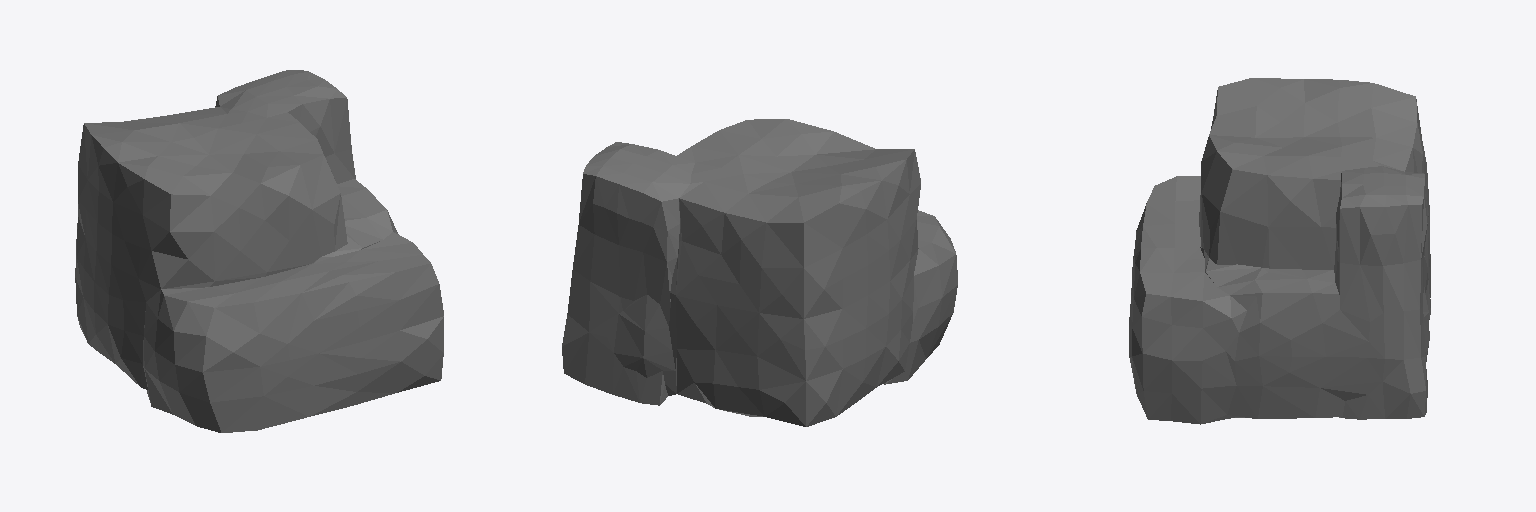
Rendered from SM_Rock_01.obj.
The picture shows the model from 3 angles: view 1: azimuth 30°, elevation 25°; view 2: azimuth 150°, elevation 25°; view 3: azimuth 270°, elevation 25°; orthographic projection.
Visible parts, largest first — view 1: polySurface1; view 2: polySurface1; view 3: polySurface1.
Boxes of the visible parts, box(x1,y1,x2,y2) form: polySurface1: box(75, 70, 443, 432); polySurface1: box(562, 119, 957, 426); polySurface1: box(1129, 78, 1430, 424).
Size of the model in its own units: 250 by 203 by 237.